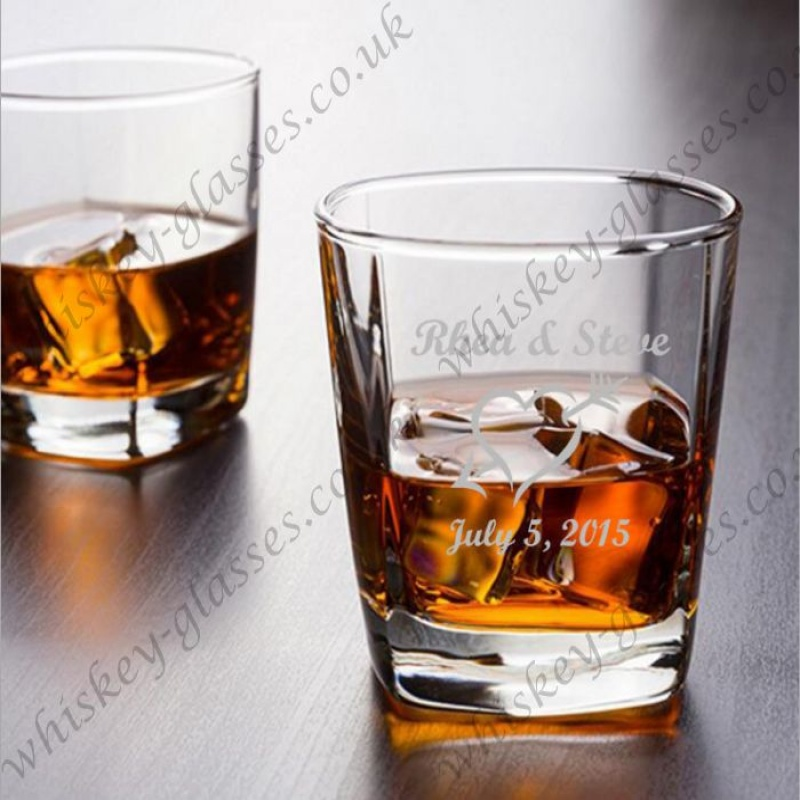whiskey: (328, 171, 704, 724), (1, 71, 259, 448)
